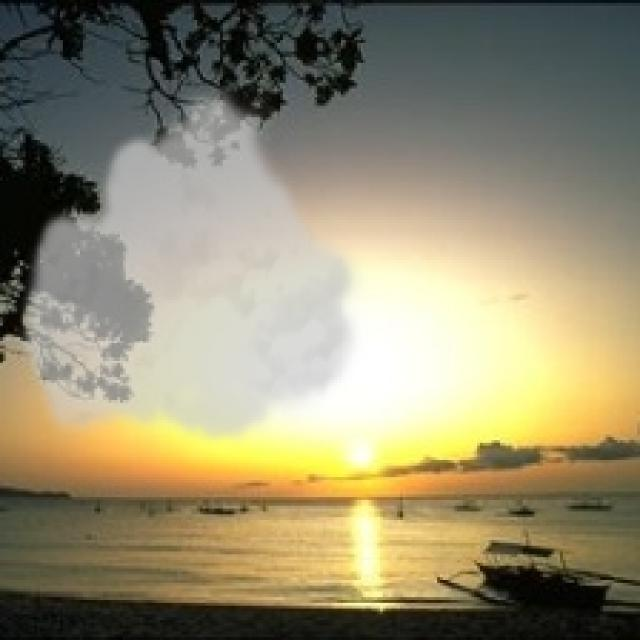smoke: (17, 83, 369, 446)
